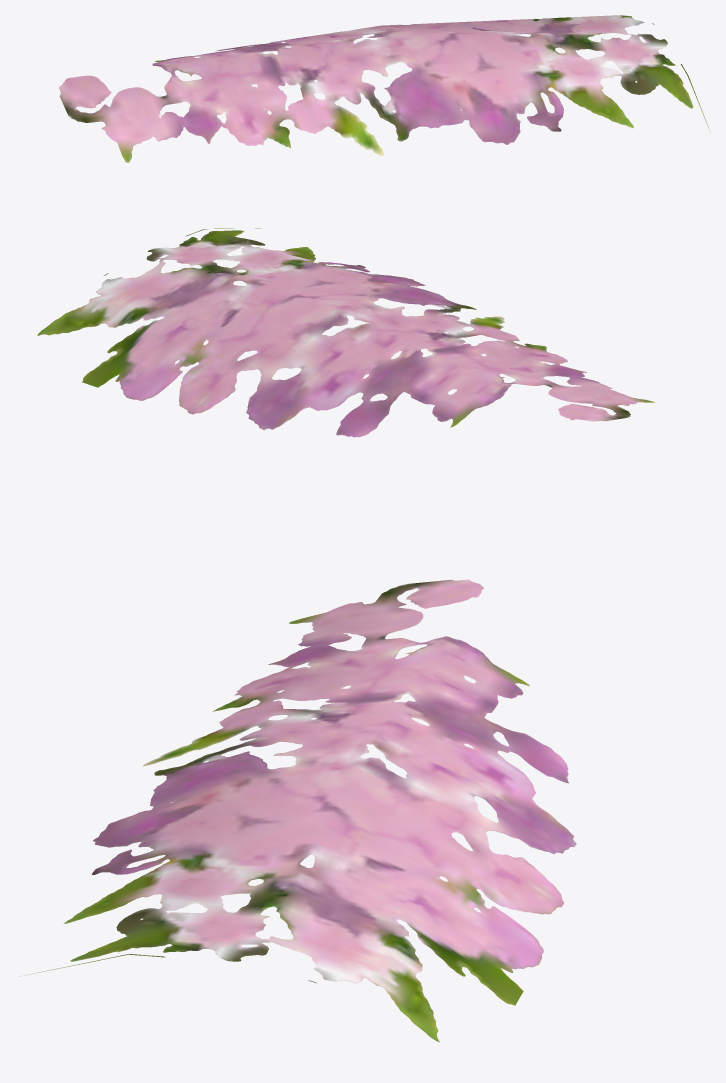
File: liemo_plant_10 (37).fbx
3 renders of one model, top to bottom at view 1: azimuth 30°, elevation 25°; view 2: azimuth 150°, elevation 25°; view 3: azimuth 270°, elevation 25°, orthographic. The views are drawn at different scales.
Visible parts, largest first — view 1: liemo_plant_10 (37); view 2: liemo_plant_10 (37); view 3: liemo_plant_10 (37).
Boxes of the visible parts, x1,y1,x2,y2 form: liemo_plant_10 (37): (58,15,710,162); liemo_plant_10 (37): (37,228,654,437); liemo_plant_10 (37): (21,579,576,1042).
Size of the model in its own units: 4.1 by 0.5371 by 2.94.
